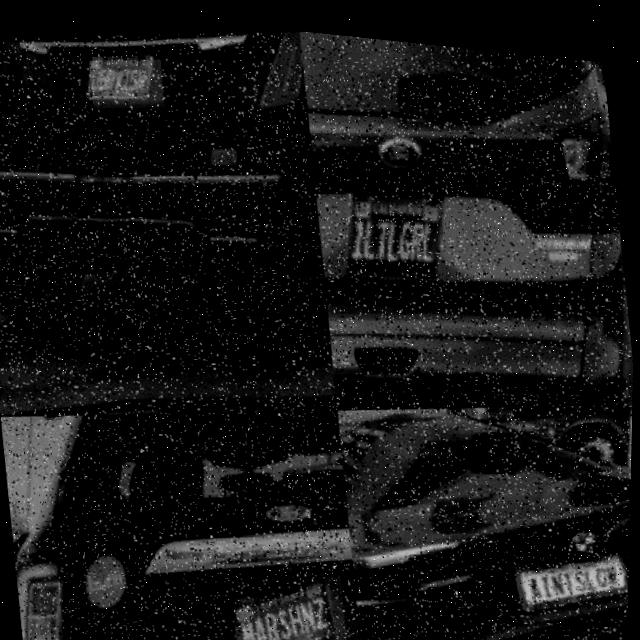LicensePlate: (343, 160, 466, 292), (236, 569, 350, 640), (519, 548, 631, 609), (94, 58, 161, 104)
